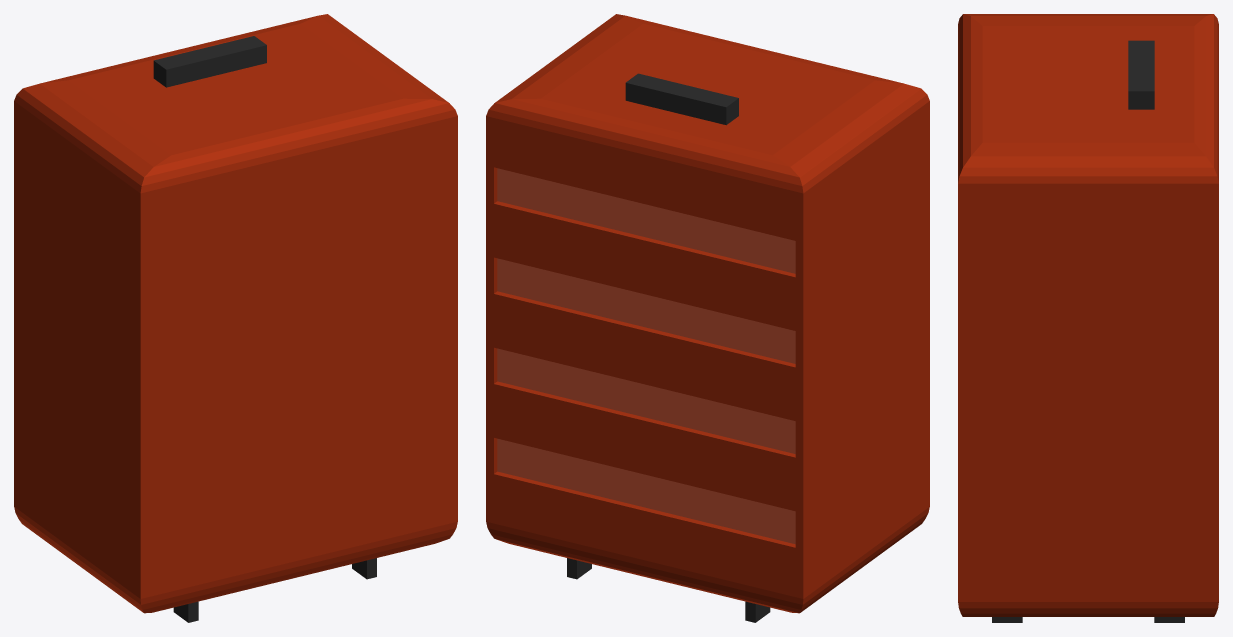
The model's file is sm_suitcase02.fbx.
3 views of the same model, side by side, from view 1: azimuth 30°, elevation 25°; view 2: azimuth 150°, elevation 25°; view 3: azimuth 270°, elevation 25° (orthographic). The views are drawn at different scales.
Visible parts, largest first — view 1: Suitcase.001; view 2: Suitcase.001; view 3: Suitcase.001.
Boxes of the visible parts, x1,y1,x2,y2 form: Suitcase.001: (14, 14, 457, 622); Suitcase.001: (486, 14, 929, 622); Suitcase.001: (958, 14, 1218, 622).
Size of the model in its own units: 0.5191 by 0.3583 by 0.7724.
1 material, 1 textured.
